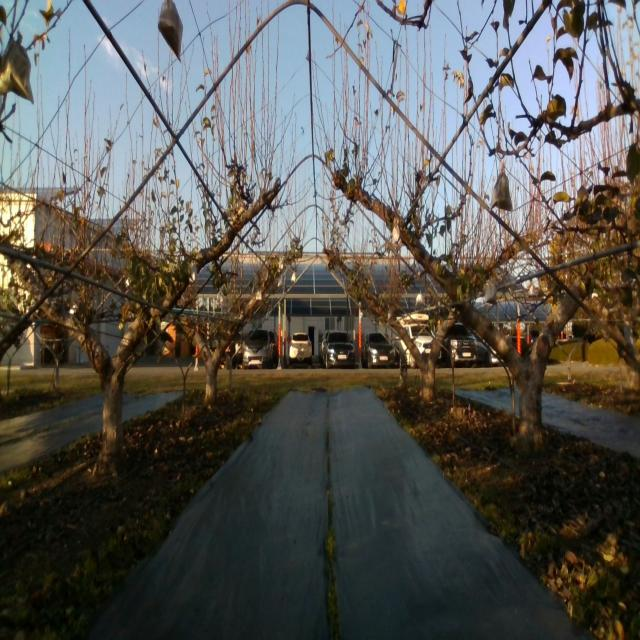pearbags: (0, 40, 34, 104), (158, 0, 184, 64), (489, 171, 513, 213), (484, 282, 498, 305)
